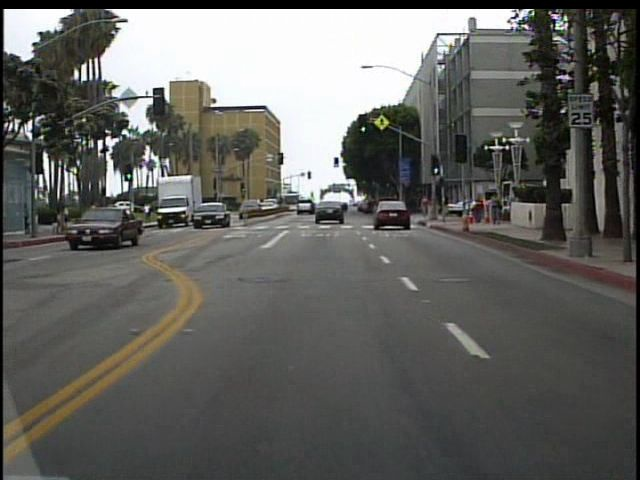person: (86, 195, 104, 237)
